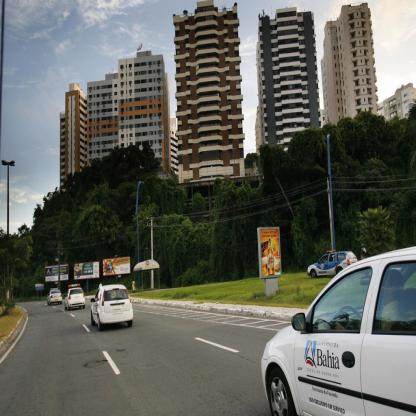Car: (269, 254, 410, 416), (90, 282, 135, 334), (304, 248, 358, 280), (62, 283, 86, 312), (45, 284, 63, 308)
